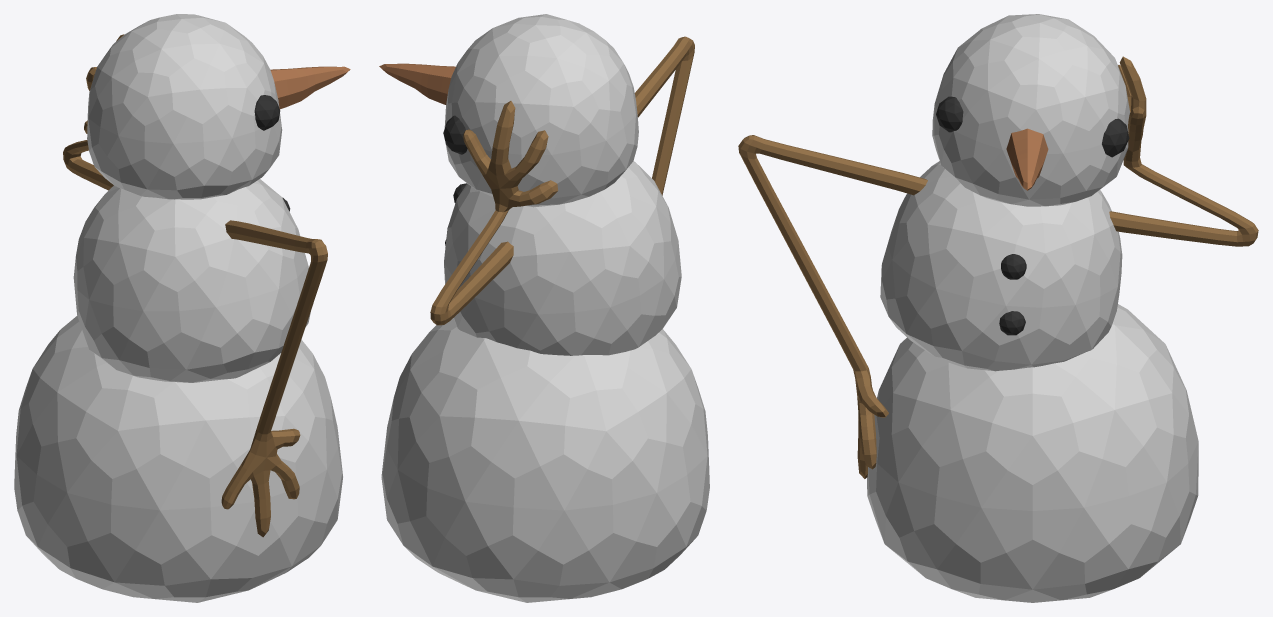
File: Snowman.fbx
The picture shows the model from 3 angles, left to right: view 1: azimuth 30°, elevation 25°; view 2: azimuth 150°, elevation 25°; view 3: azimuth 270°, elevation 25°; orthographic projection.
Parts seen in each view (by area): view 1: Snowman; view 2: Snowman; view 3: Snowman.
Boxes of the visible parts, box(x1,y1,x2,y2) form: Snowman: box(14, 14, 350, 602); Snowman: box(379, 14, 709, 602); Snowman: box(738, 14, 1258, 602).
Bounding box in the file's own units: 213 × 360 × 301.
